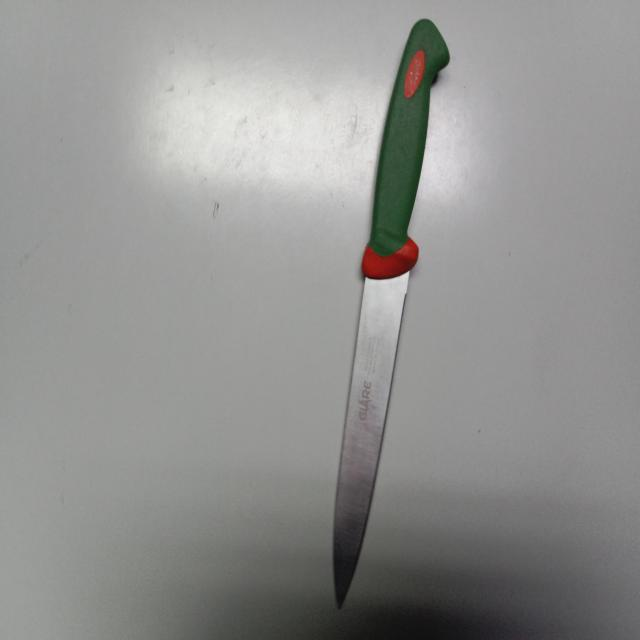Knife: (334, 18, 450, 609)
